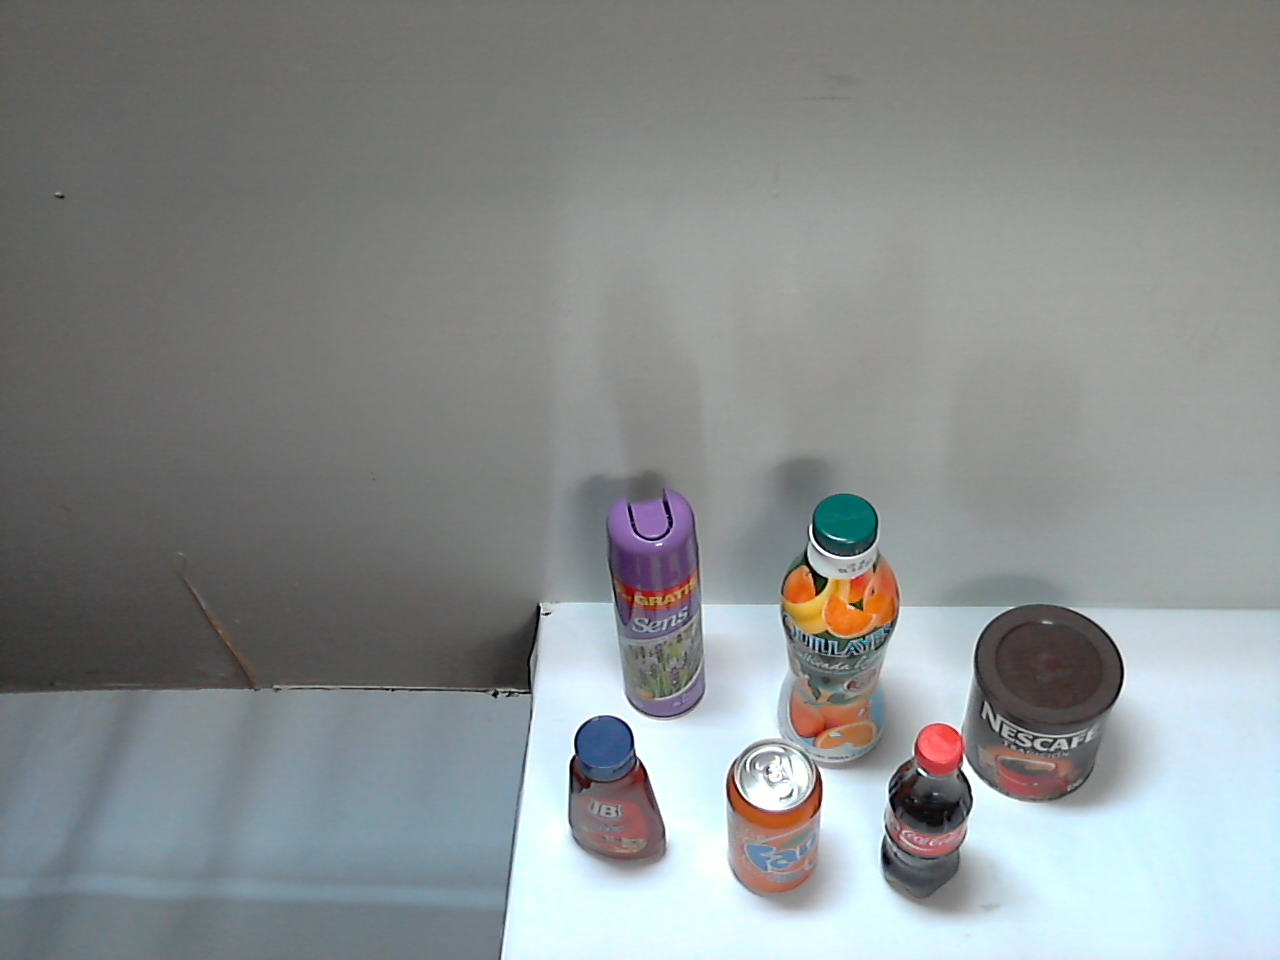aceite: (708, 413, 848, 711)
cloro: (855, 467, 1036, 732)
crema: (973, 688, 1086, 838)
harina: (521, 513, 707, 725)
jugoind: (670, 686, 767, 841)
papas: (1054, 450, 1255, 744)
